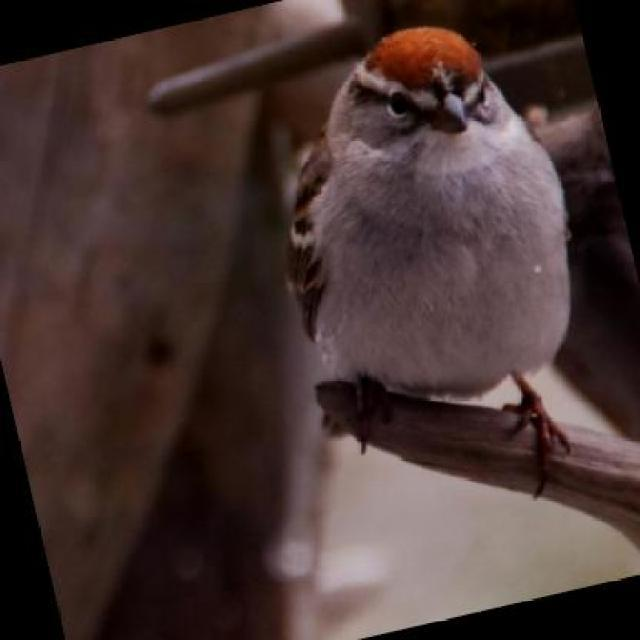Bird: (284, 22, 571, 458)
